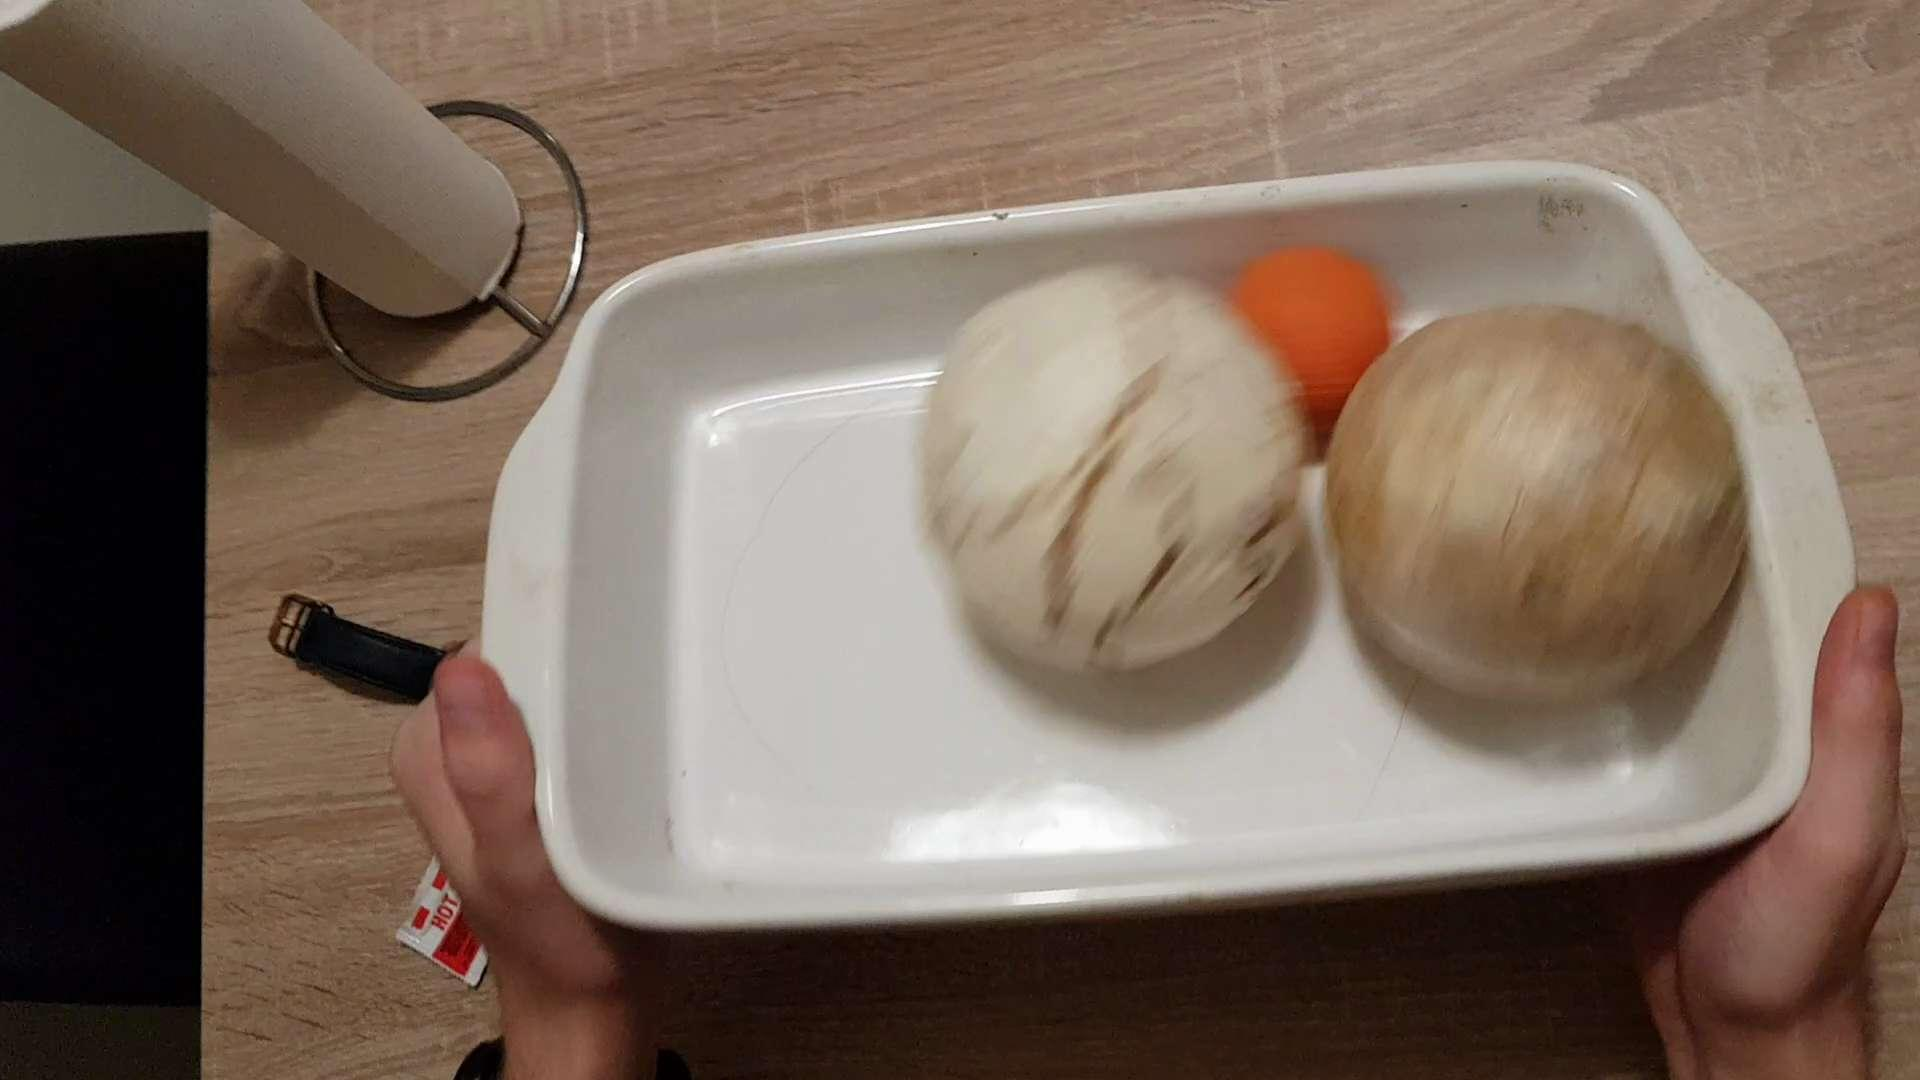Sphere: (1229, 233, 1396, 392)
sphere: (1320, 301, 1745, 699), (903, 256, 1307, 669)
